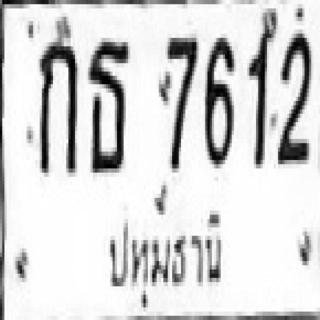A01: (38, 27, 75, 171)
A24: (86, 36, 128, 171)
N01: (247, 17, 274, 164), (247, 25, 274, 164)
N02: (276, 29, 309, 160)
N06: (203, 34, 232, 164)
N07: (159, 34, 196, 168)
P38: (104, 205, 228, 315)
